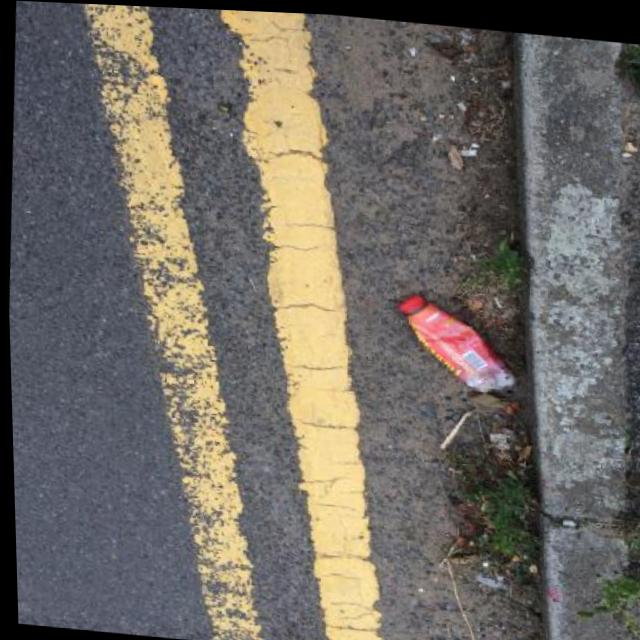plastic: (396, 293, 521, 397)
